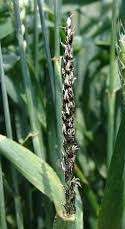Wheat Loose Smut: (54, 24, 87, 177)
